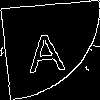A: (25, 24, 68, 73)
